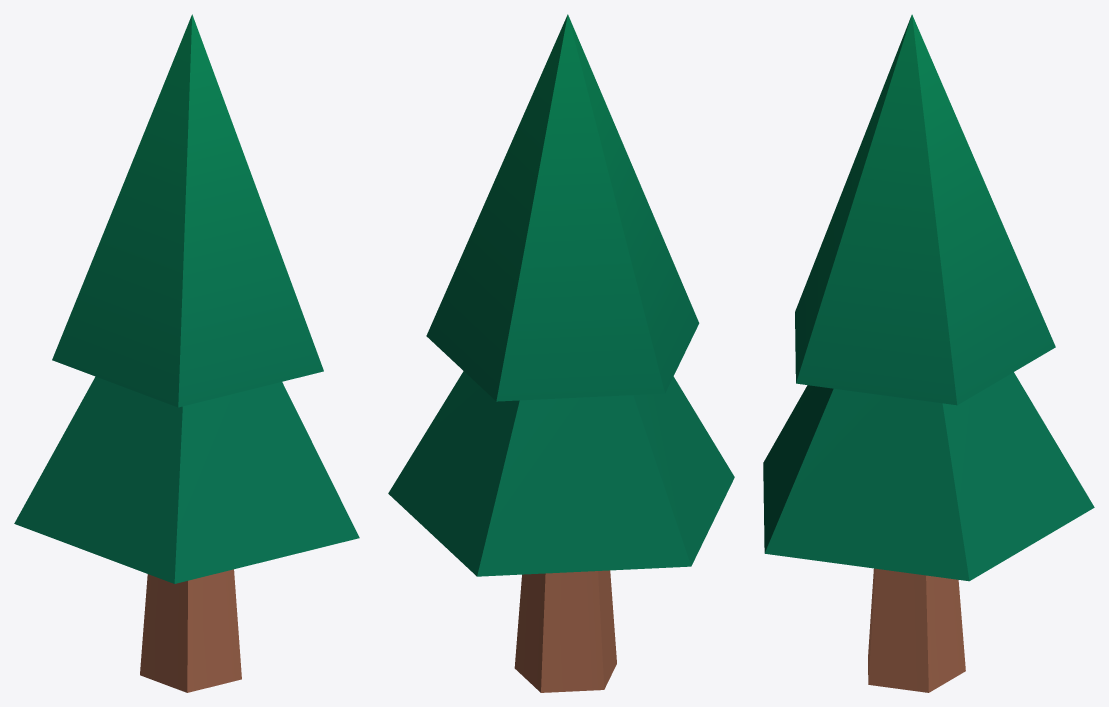
File: tree_single_A.gltf
3 views of the same model, side by side, from view 1: azimuth 30°, elevation 25°; view 2: azimuth 150°, elevation 25°; view 3: azimuth 270°, elevation 25° (orthographic).
Visible parts, largest first — view 1: tree_single_A; view 2: tree_single_A; view 3: tree_single_A.
Part boxes in pixels (<box>): tree_single_A: <box>14,14,359,692</box>; tree_single_A: <box>388,14,734,692</box>; tree_single_A: <box>763,14,1094,692</box>.
Size of the model in its own units: 0.5739 by 1.2 by 0.547.
1 material, 1 textured.
